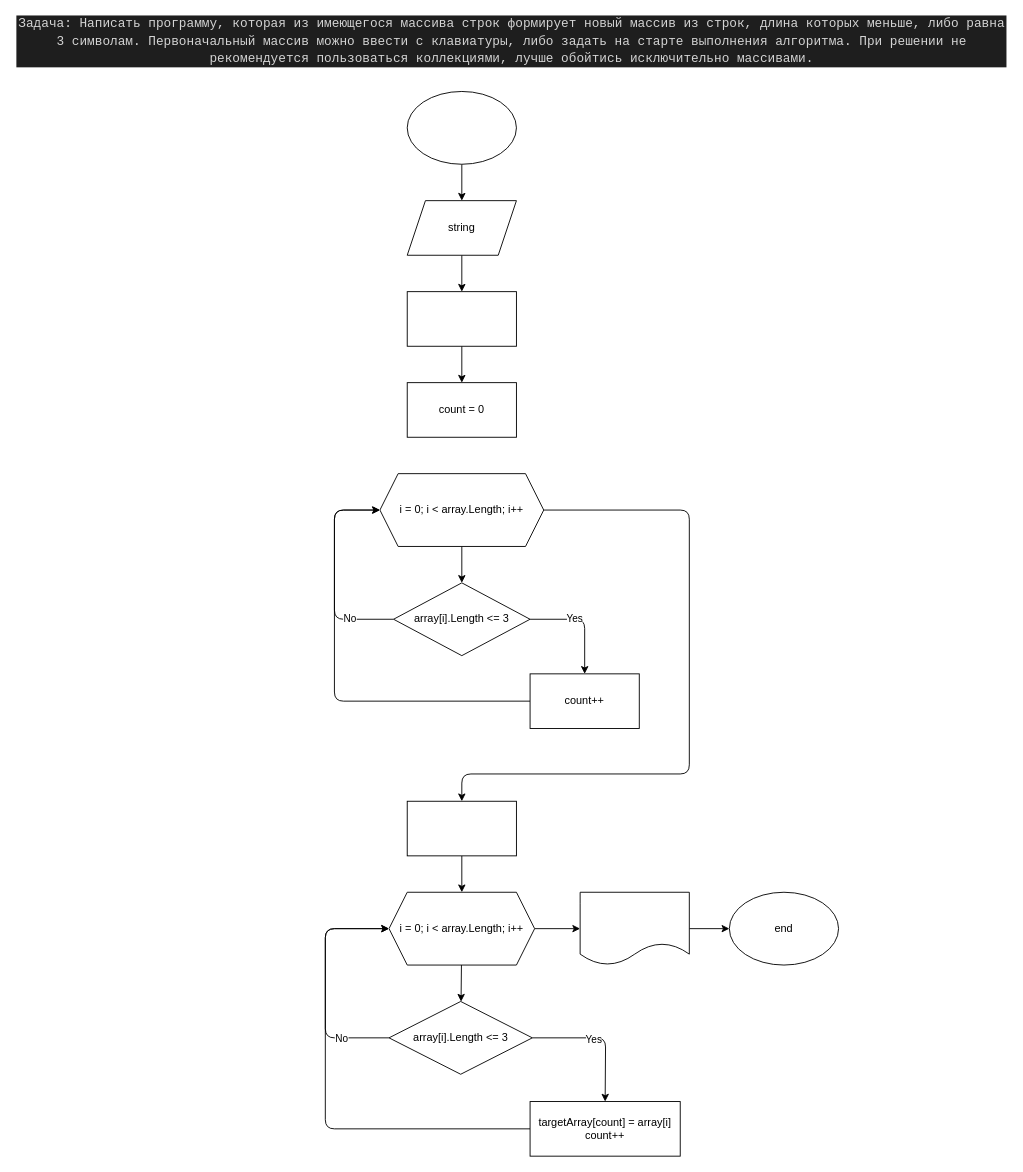
Some shapes in this 1023 by 1172 pixel diagram are drawn without their labels. Here are the shapes that lost their labels. From the top down, the centre of each, then its label:
At [461,127]: "start".
At [461,318]: "array = s.Split".
At [461,828]: "targetArray count = 0".
At [634,928]: "print targetArray".
